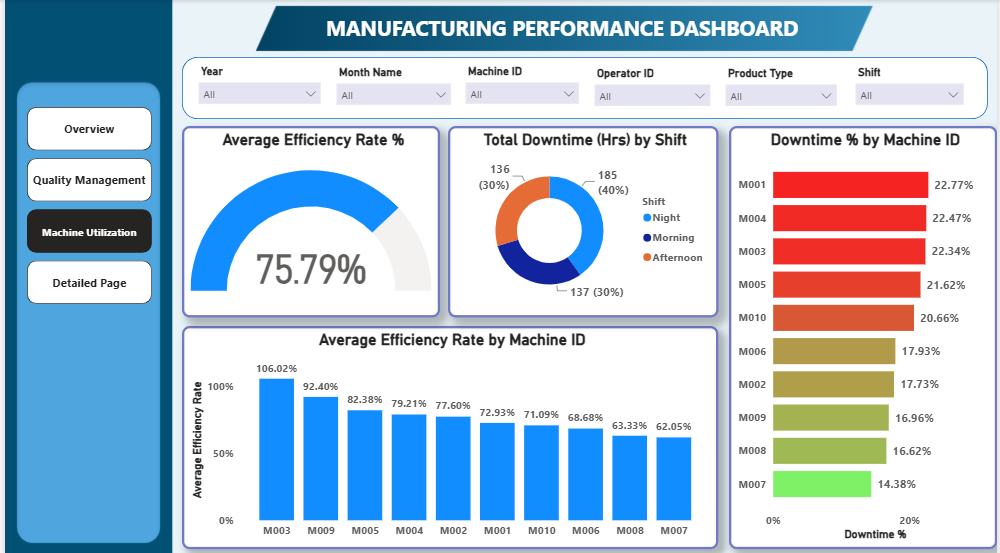

What the dashboard file says about the page in this screenshot:
{"tool":"powerbi","page":{"name":"Machine Utilization","canvas":[1280,720],"ordinal":2},"visuals":[{"type":"pageNavigator","box":[28.3,137.5,161.6,255.1],"z":0},{"type":"shape","box":[228.8,72.9,1039.7,80.1],"z":1000},{"type":"slicer","fields":{"Values":["Calender table.Year"]},"box":[240.3,78.7,177.3,65.8],"z":2000},{"type":"slicer","fields":{"Values":["Calender table.Month Name"]},"box":[417.6,80.1,167.3,65.8],"z":3000},{"type":"slicer","fields":{"Values":["Manufacturing Data.Machine ID"]},"box":[584.9,78.7,165.9,65.8],"z":4000},{"type":"slicer","fields":{"Values":["Manufacturing Data.Operator ID"]},"box":[750.8,81.5,168.8,65.8],"z":5000},{"type":"slicer","fields":{"Values":["Manufacturing Data.Product Type"]},"box":[919.6,81.5,163,55.8],"z":6000},{"type":"slicer","fields":{"Values":["Manufacturing Data.Shift"]},"box":[1088.4,80.1,158.7,65.8],"z":7000},{"type":"clusteredColumnChart","title":"Average Efficiency Rate by Machine ID","fields":{"Category":["Manufacturing Data.Machine ID"],"Y":["Measure Table.Average Efficiency Rate"]},"box":[228.2,420.9,691.7,287.7],"z":8000},{"type":"gauge","title":"Average Efficiency Rate %","fields":{"Y":["Measure Table.Average Efficiency Rate"]},"box":[228.2,163,333.1,246.6],"z":9000},{"type":"donutChart","title":"Total Downtime (Hrs) by Shift","fields":{"Category":["Shift.Shift"],"Y":["Measure Table.Total Downtime (Hrs)"]},"box":[571.2,163,348.7,246.6],"z":10000},{"type":"clusteredBarChart","title":"Downtime % by Machine ID","fields":{"Y":["Measure Table.Downtime %"],"Category":["Manufacturing Data.Machine ID"]},"box":[934,163,345.8,545.7],"z":11000},{"type":"textbox","box":[391.2,12.9,655.8,48.9],"z":12000}]}

Visuals, with their boxes in screenshot pixels (x1, y1, x2, y2), scaled from the page's 1280x720 canvas onto the 1000x553 screenshot:
pageNavigator: {"left": 22, "top": 106, "right": 148, "bottom": 302}
shape: {"left": 179, "top": 56, "right": 991, "bottom": 118}
slicer - Calender table.Year: {"left": 188, "top": 60, "right": 326, "bottom": 111}
slicer - Calender table.Month Name: {"left": 326, "top": 62, "right": 457, "bottom": 112}
slicer - Manufacturing Data.Machine ID: {"left": 457, "top": 60, "right": 587, "bottom": 111}
slicer - Manufacturing Data.Operator ID: {"left": 587, "top": 63, "right": 718, "bottom": 113}
slicer - Manufacturing Data.Product Type: {"left": 718, "top": 63, "right": 846, "bottom": 105}
slicer - Manufacturing Data.Shift: {"left": 850, "top": 62, "right": 974, "bottom": 112}
"Average Efficiency Rate by Machine ID" clusteredColumnChart: {"left": 178, "top": 323, "right": 719, "bottom": 544}
"Average Efficiency Rate %" gauge: {"left": 178, "top": 125, "right": 439, "bottom": 315}
"Total Downtime (Hrs) by Shift" donutChart: {"left": 446, "top": 125, "right": 719, "bottom": 315}
"Downtime % by Machine ID" clusteredBarChart: {"left": 730, "top": 125, "right": 999, "bottom": 544}
textbox: {"left": 306, "top": 10, "right": 818, "bottom": 47}
